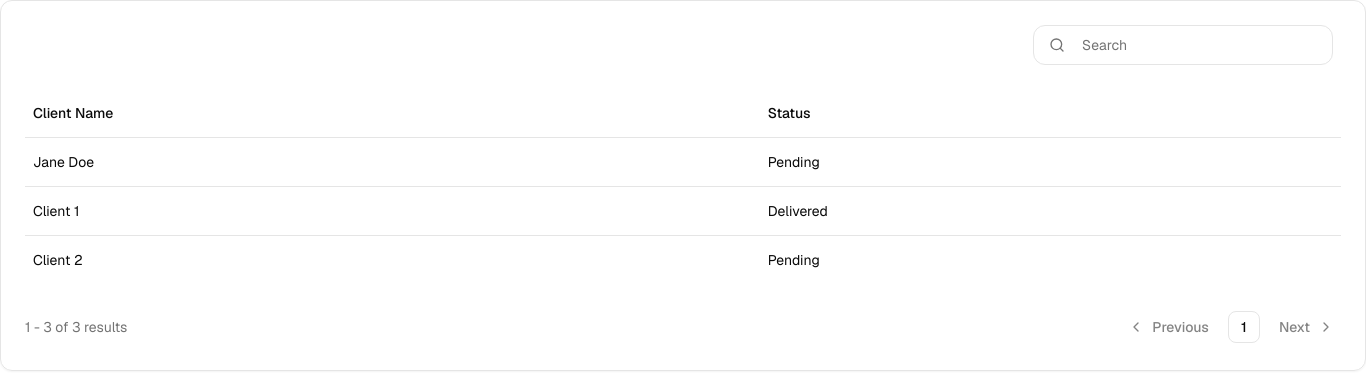
Test: DataTable › filters rows via the search input
Type "Jane" into the field with placeholder "Search" at coordinates (1183, 45), box x1=1033 y1=25 x2=1333 y2=65
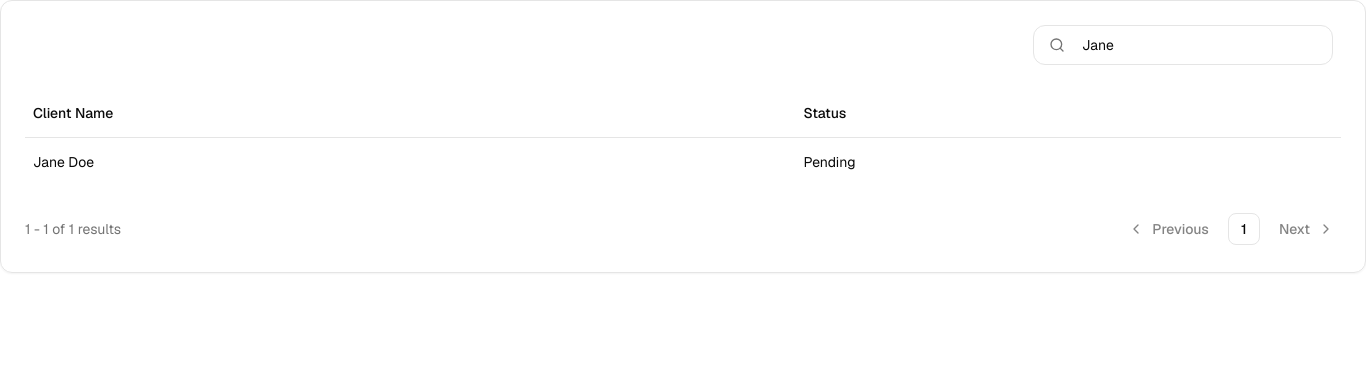
Expected: the text "Jane Doe" is shown, x1=25 y1=138 x2=795 y2=186
Expected: the text "Client 1" is gone
